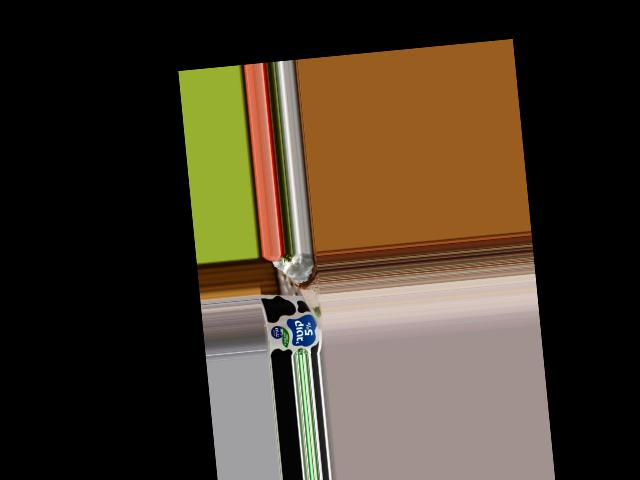cotage: (261, 292, 322, 357)
